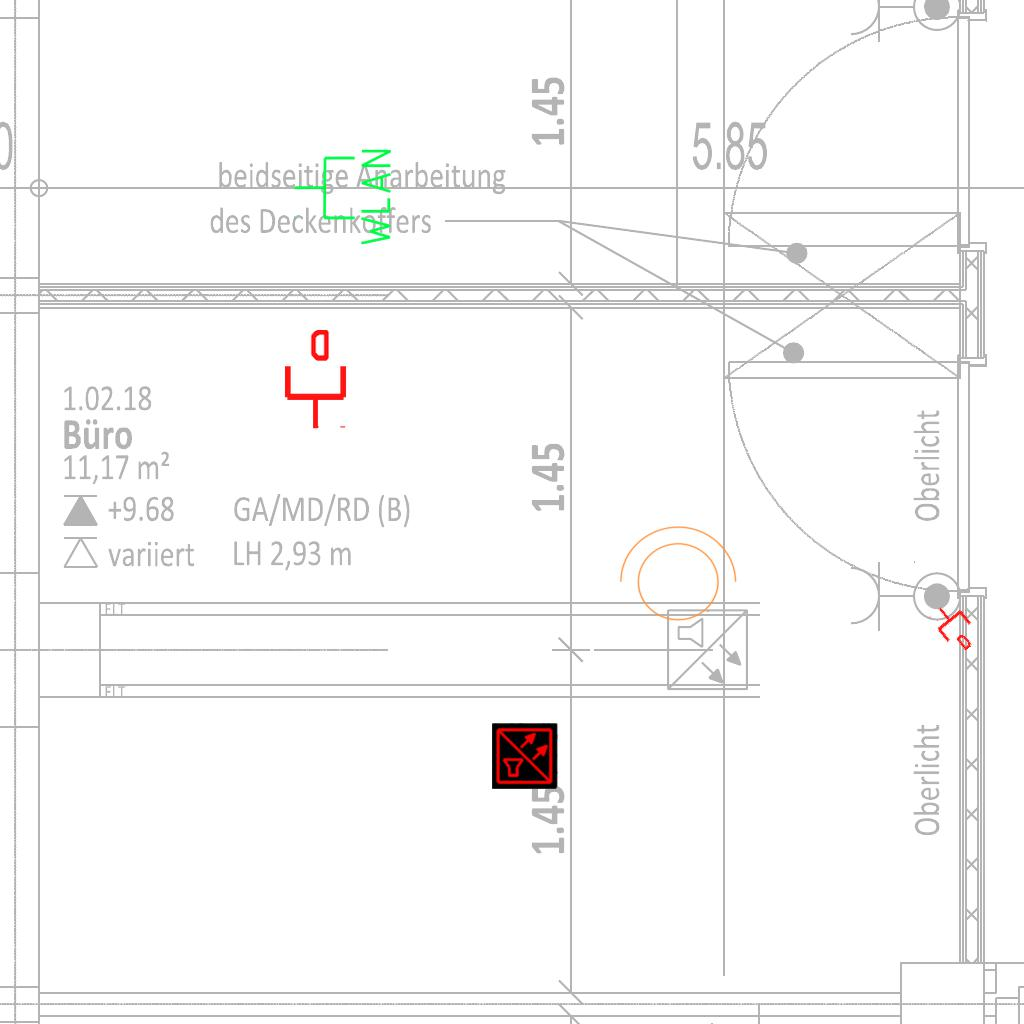Datenanschluss_einfach: (281, 330, 350, 430), (926, 596, 984, 658)
OKW_Multisensormelder_(Kombination_optischer_Rauch-Kahlenmonoxid_Waerme-Melder): (492, 723, 558, 789)
Scheinwerfer_fuer_Alarmbeleuchtung: (609, 521, 741, 633)
WLAN: (291, 145, 395, 250)
